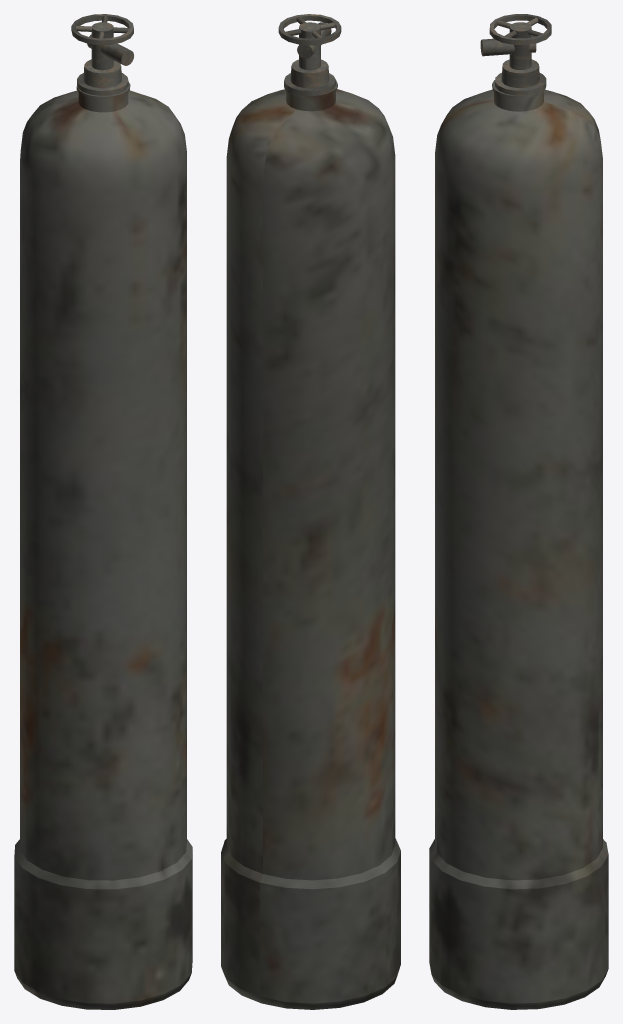
File: prop_medium_008.glb
The picture shows the model from 3 angles, left to right: view 1: azimuth 30°, elevation 25°; view 2: azimuth 150°, elevation 25°; view 3: azimuth 270°, elevation 25°; orthographic projection.
Visible parts, largest first — view 1: Building_12_027; view 2: Building_12_027; view 3: Building_12_027.
Boxes of the visible parts, box(x1,y1,x2,y2) form: Building_12_027: box(14, 14, 192, 1009); Building_12_027: box(221, 14, 400, 1009); Building_12_027: box(429, 14, 608, 1009).
Size of the model in its own units: 0.2054 by 1.2 by 0.2054.
Materials: 1 (1 with a texture image).
